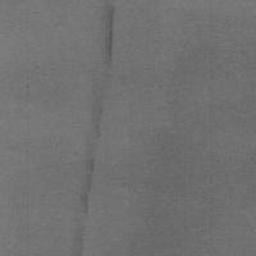Inclusion: (69, 5, 118, 256)
